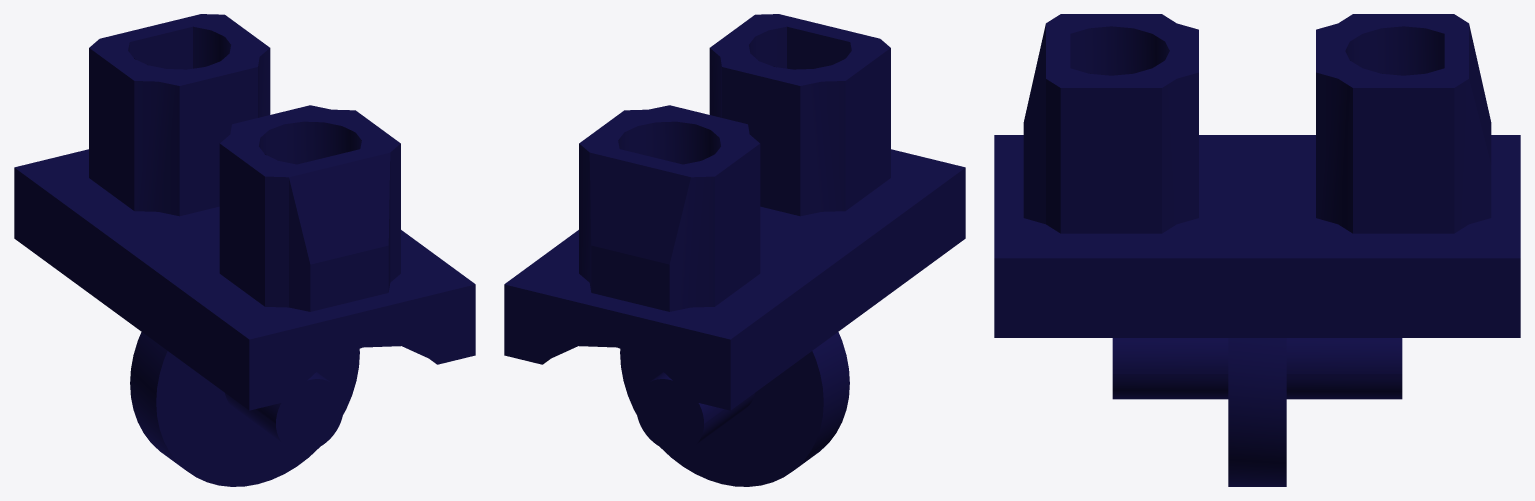
File: hip_dark_purple.obj
3 views of the same model, side by side, from view 1: azimuth 30°, elevation 25°; view 2: azimuth 150°, elevation 25°; view 3: azimuth 270°, elevation 25° (orthographic). The views are drawn at different scales.
Visible parts, largest first — view 1: hip_dark_purple; view 2: hip_dark_purple; view 3: hip_dark_purple.
Boxes of the visible parts, x1,y1,x2,y2 form: hip_dark_purple: (14,14,475,486); hip_dark_purple: (504,14,965,486); hip_dark_purple: (994,14,1520,486).
Bounding box in the file's own units: 20 × 32 × 36.
